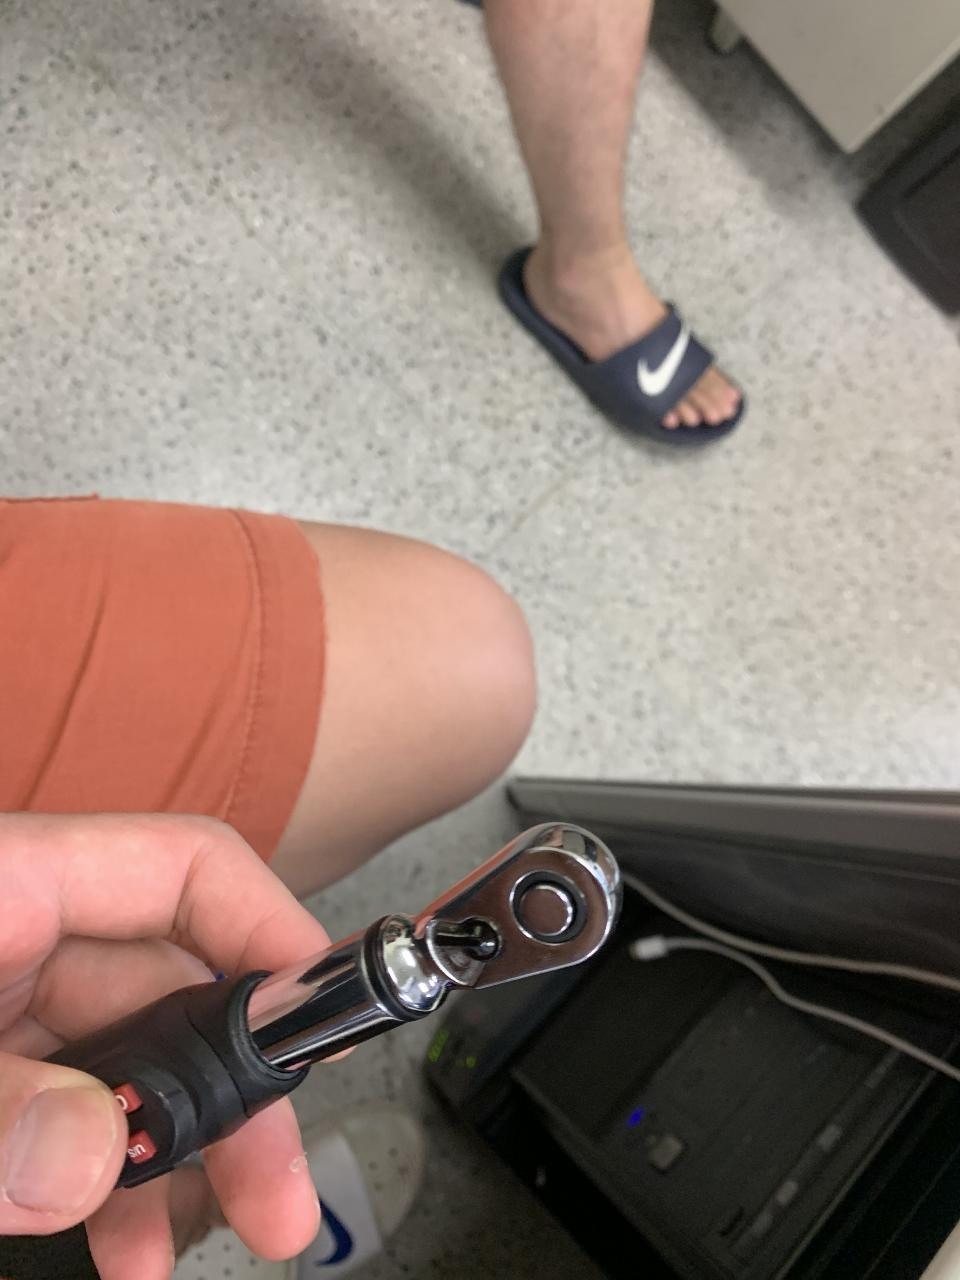Tool: (367, 820, 624, 1020)
